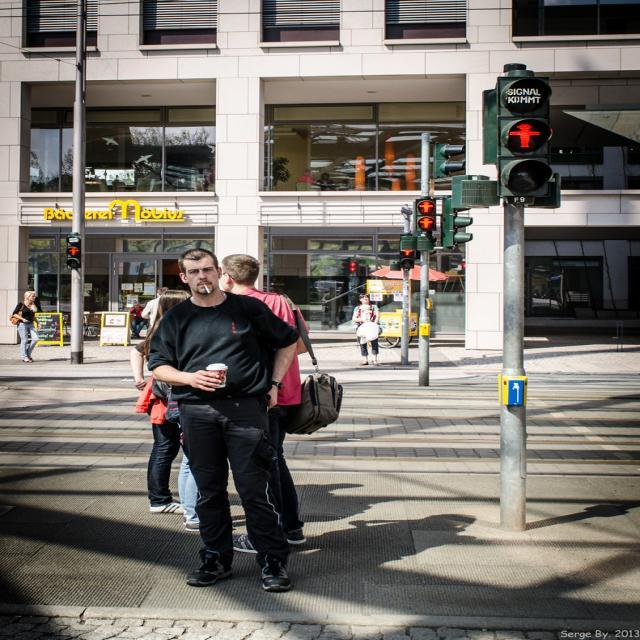off traffic light: (442, 195, 474, 249)
traffic light: (497, 76, 554, 195), (413, 199, 438, 232), (397, 235, 416, 269), (67, 234, 81, 270)
